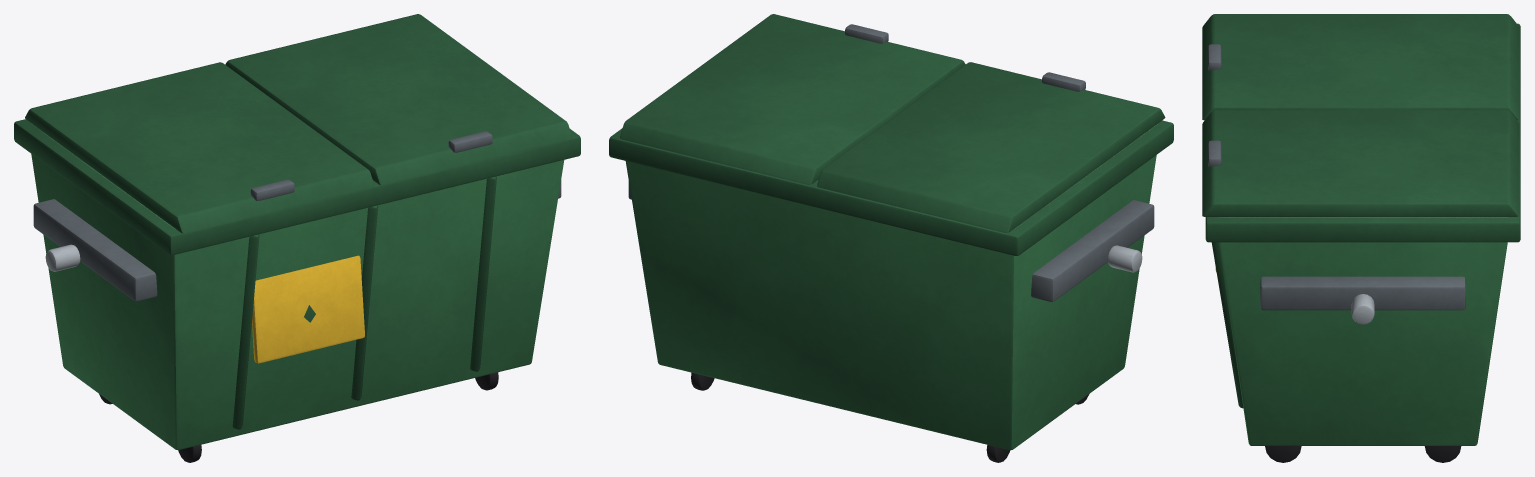
The model's file is contenedor.gltf.
The picture shows the model from 3 angles, left to right: view 1: azimuth 30°, elevation 25°; view 2: azimuth 150°, elevation 25°; view 3: azimuth 270°, elevation 25°; orthographic projection.
Parts seen in each view (by area): view 1: contenedor, tapa_izq, tapa_der; view 2: contenedor, tapa_izq, tapa_der; view 3: contenedor, tapa_der, tapa_izq, rueda_td, rueda_dd.
Part boxes in pixels (x1,y1,x2,y2): contenedor: (14, 119, 580, 450); tapa_izq: (25, 62, 374, 233); tapa_der: (225, 14, 572, 185); contenedor: (609, 120, 1173, 450); tapa_izq: (817, 62, 1165, 233); tapa_der: (620, 14, 965, 184); contenedor: (1205, 23, 1520, 445); tapa_der: (1202, 110, 1519, 216); tapa_izq: (1202, 14, 1519, 120); rueda_td: (1424, 446, 1461, 462); rueda_dd: (1265, 446, 1301, 462).
Bounding box in the file's own units: 2.5 × 1.39 × 1.39.
Materials: 6 (6 with a texture image).
